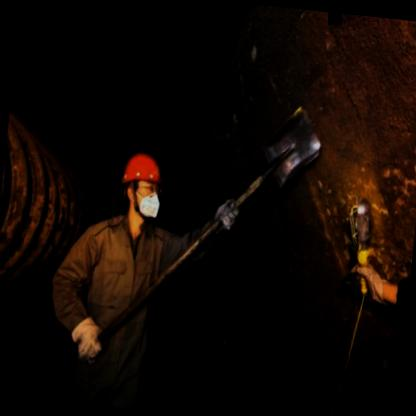helmet: (112, 144, 167, 225)
